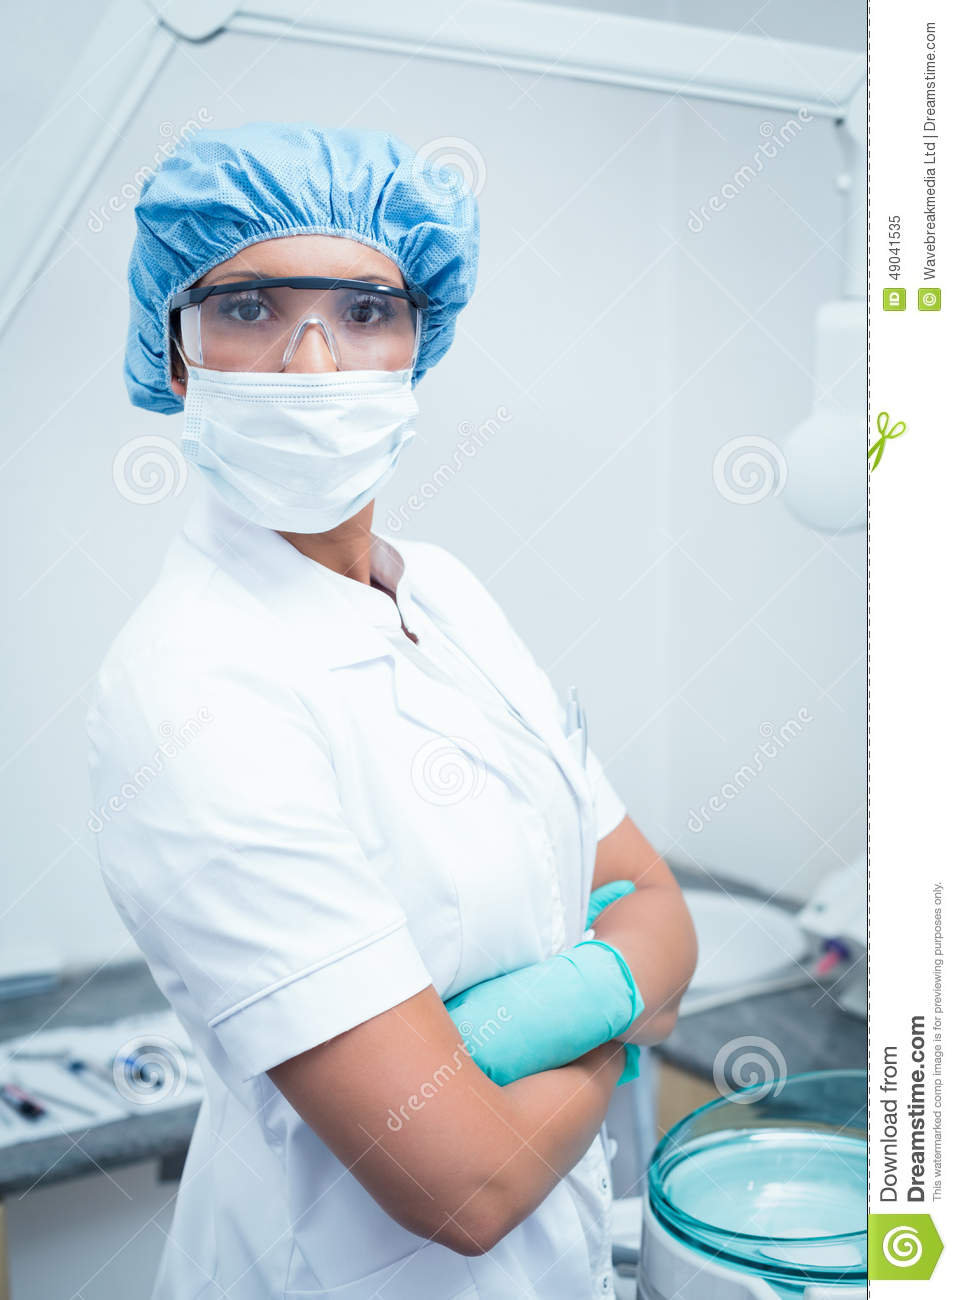mask: (162, 361, 438, 549)
